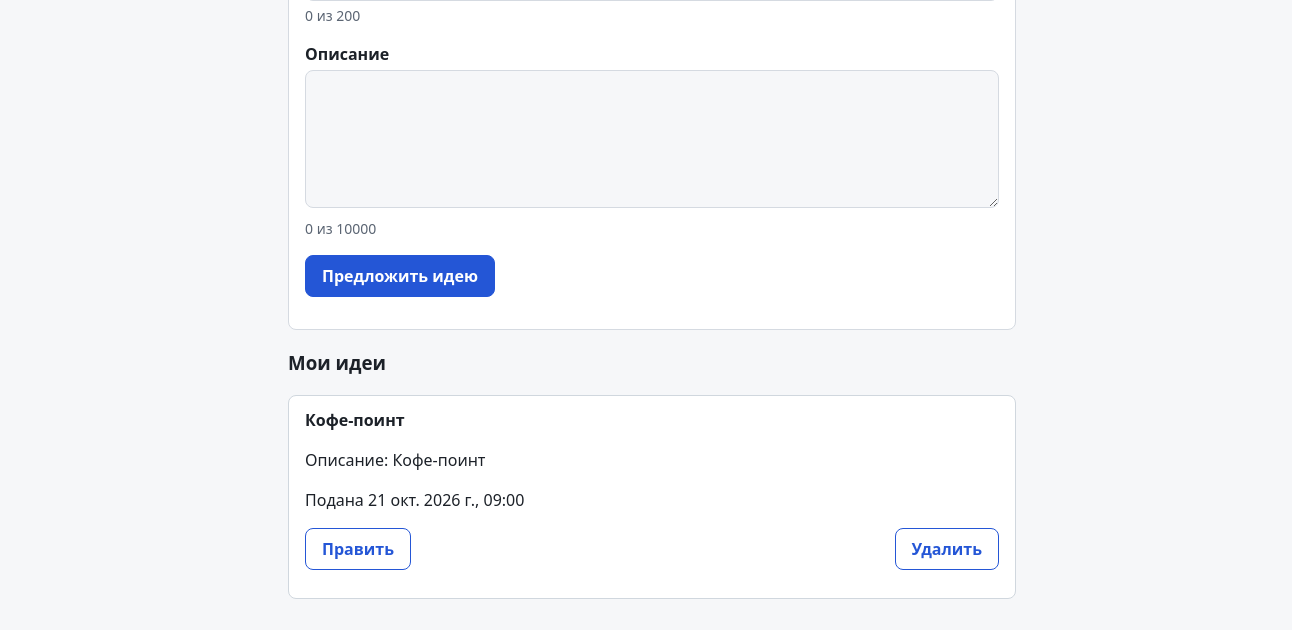
Test case: страница конкурса: приём идей › stale_version: текст правки остаётся, повторное сохранение уходит с новой версией
The image size is (1292, 630).
(page scrolled)
Click the button "Править". click: (358, 549)
box: [305,528,411,570]
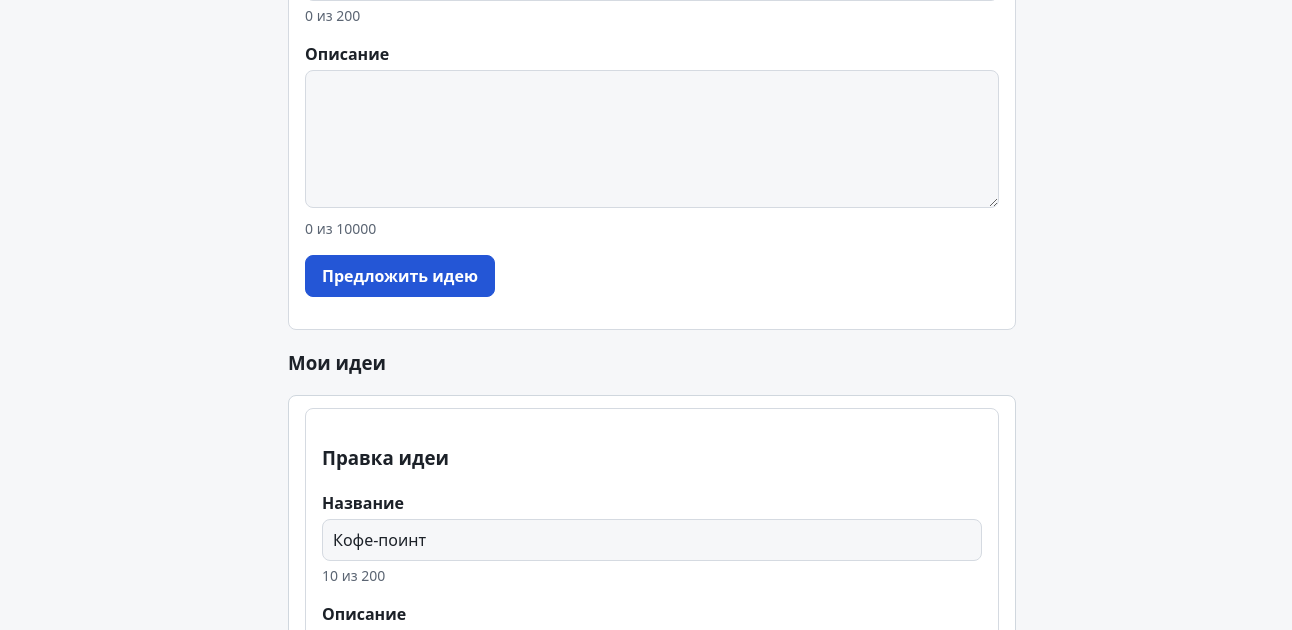
Replace the text in the field labelled "Название" below "Правка идеи" with "Моя правка". click: (652, 540)
box: [322,519,982,561]
(page scrolled)
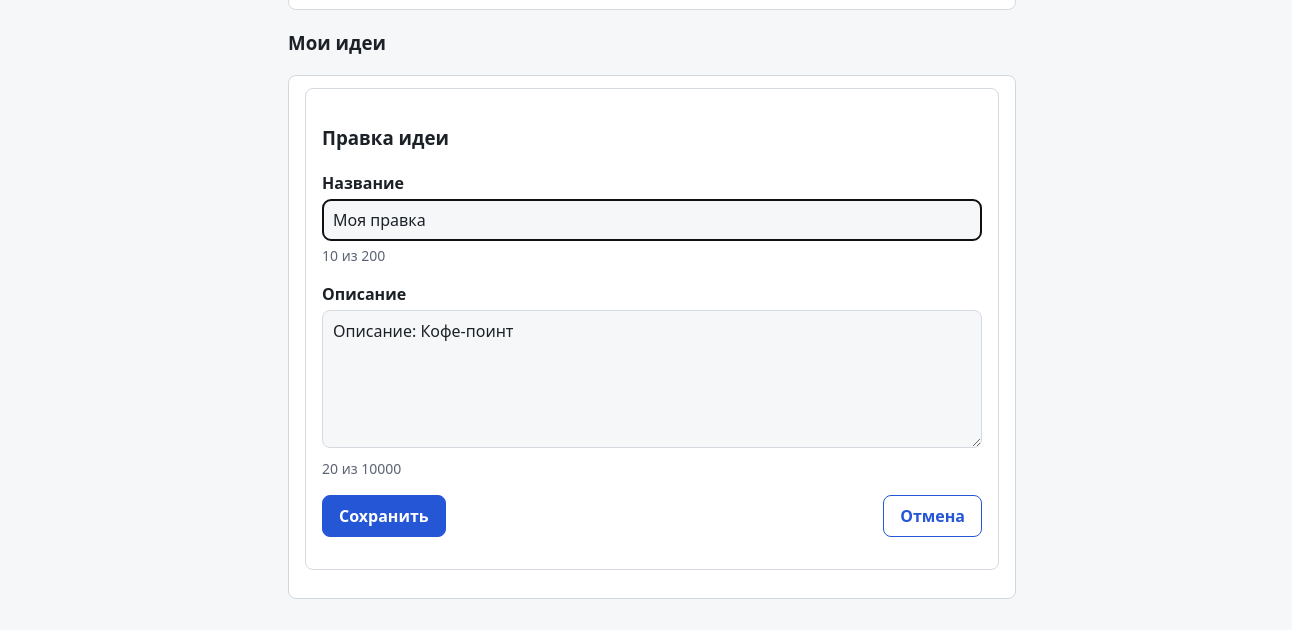
Click the button "Сохранить". click: (384, 516)
box: [322,495,446,537]
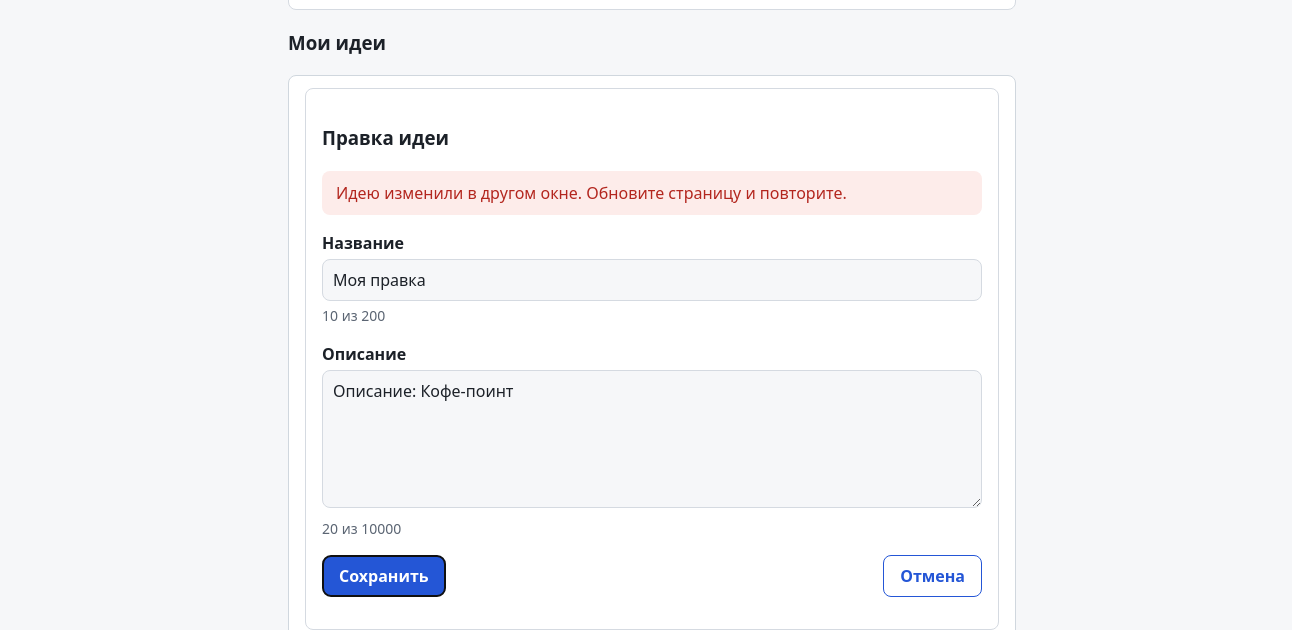
Expected: the text "Идею изменили в другом окне. Обновите страницу и повторите." is shown, [336,181,847,205]
Click the button "Сохранить". click: (384, 576)
box: [322,555,446,597]
(page scrolled)
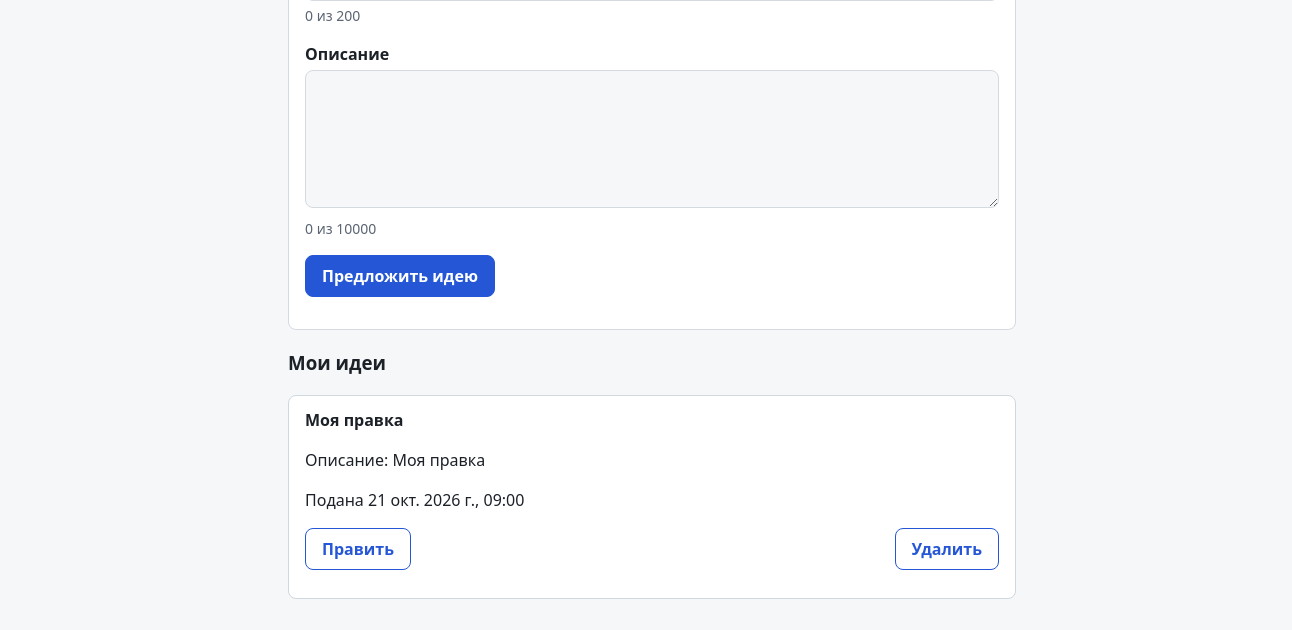
Expected: the heading "Моя правка" is shown, [305,409,404,431]
